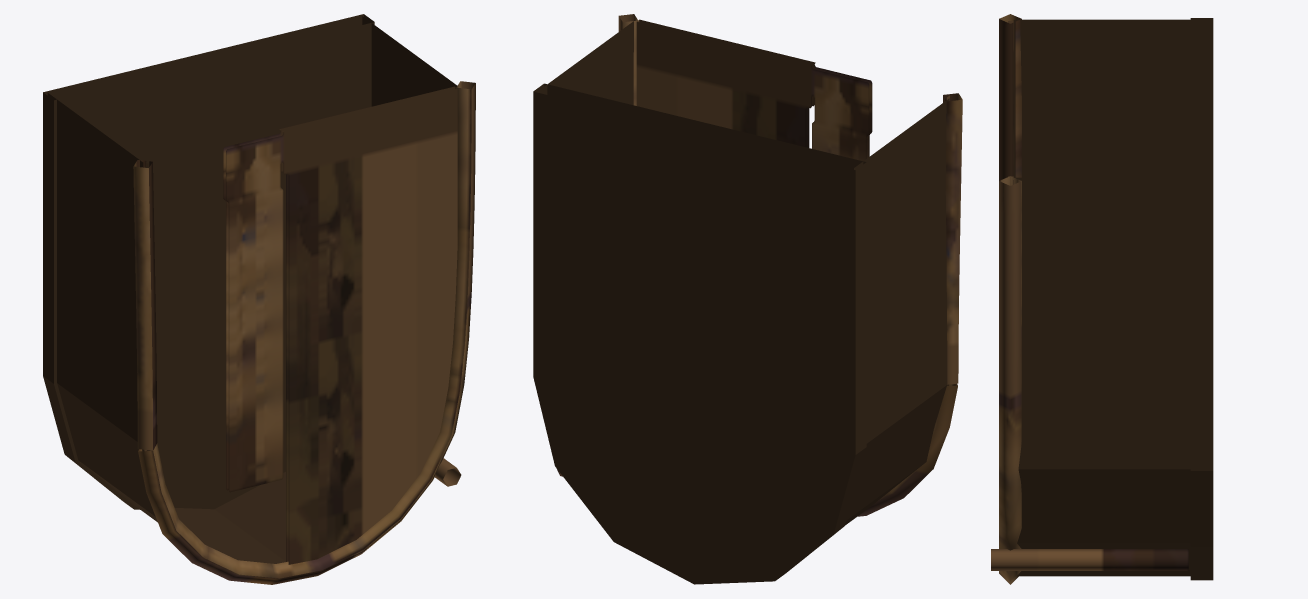
Rendered from section-3.obj.
The picture shows the model from 3 angles, left to right: view 1: azimuth 30°, elevation 25°; view 2: azimuth 150°, elevation 25°; view 3: azimuth 270°, elevation 25°; orthographic projection. The views are drawn at different scales.
Bounding box in the file's own units: 0.6317 × 0.8014 × 0.47.
